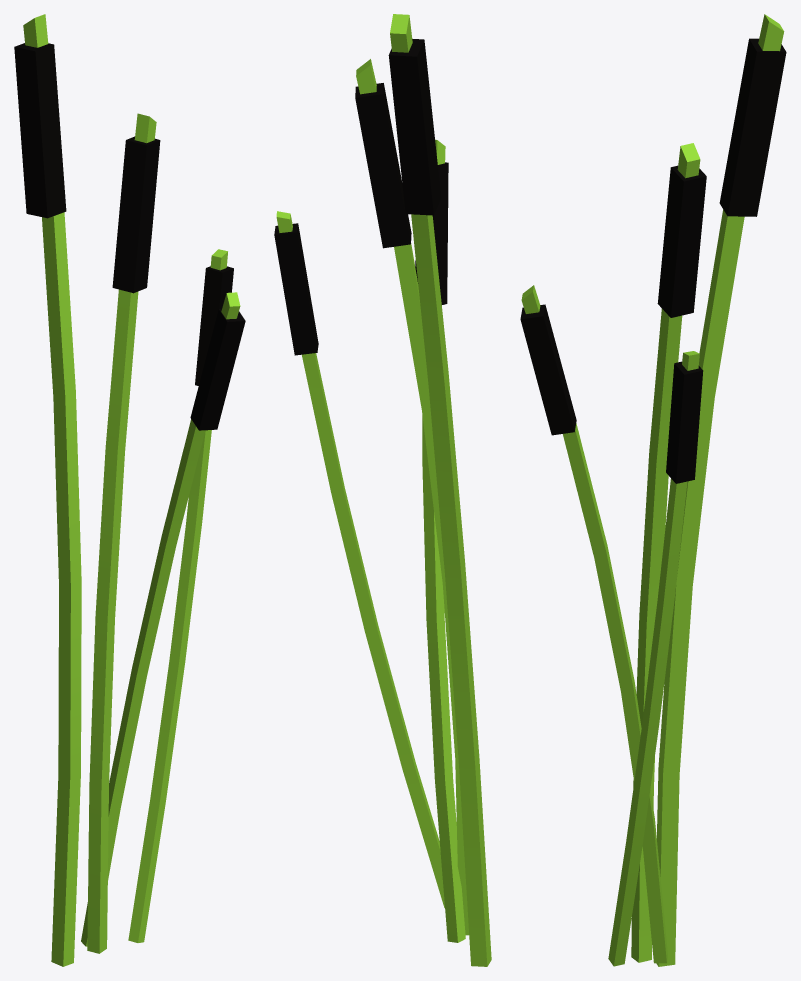
Rendered from Gr-herbes3.FBX.
3 views of the same model, side by side, from view 1: azimuth 30°, elevation 25°; view 2: azimuth 150°, elevation 25°; view 3: azimuth 270°, elevation 25° (orthographic). The views are drawn at different scales.
Parts seen in each view (by area): view 1: Box007, Box005, Box003, Box009, Box008, Box006, Box010, Box004; view 2: Box007, Box009, Box003, Box008, Box005, Box006, Box004, Box010; view 3: Box007, Box005, Box003, Box009, Box008, Box006, Box010, Box004.
Boxes of the visible parts, x1,y1,x2,y2 form: Box007: (23, 14, 81, 966); Box005: (87, 113, 156, 953); Box003: (128, 249, 227, 942); Box009: (81, 292, 240, 946); Box008: (14, 43, 66, 218); Box006: (112, 136, 160, 293); Box010: (190, 309, 245, 430); Box004: (195, 266, 233, 385); Box007: (390, 14, 491, 966); Box009: (422, 139, 465, 942); Box003: (276, 211, 444, 907); Box008: (388, 39, 441, 215); Box005: (356, 59, 469, 935); Box006: (355, 83, 411, 248); Box004: (274, 223, 318, 355); Box010: (415, 162, 448, 304); Box007: (656, 14, 784, 966); Box005: (631, 143, 700, 962); Box003: (608, 351, 699, 966); Box009: (521, 285, 667, 963); Box008: (719, 38, 786, 216); Box006: (657, 165, 706, 317); Box010: (520, 304, 576, 435); Box004: (666, 361, 703, 483).
Size of the model in its own units: 8.37 by 38.31 by 9.64.
